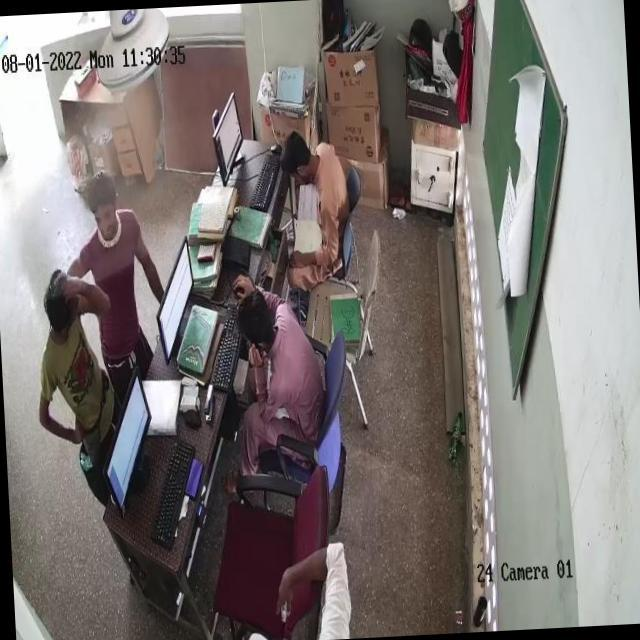person: (240, 281, 324, 461), (32, 276, 118, 450), (84, 183, 154, 380), (284, 132, 352, 274)
